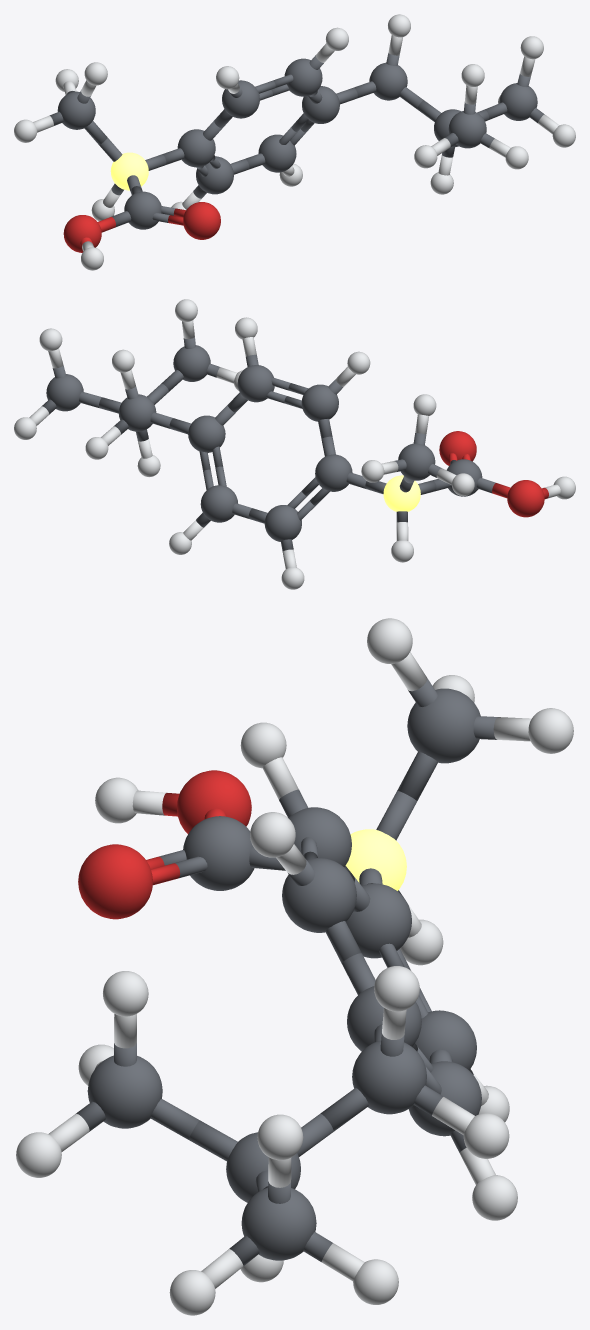
The model's file is s_ibuprofen.glb.
The picture shows the model from 3 angles, top to bottom: view 1: azimuth 30°, elevation 25°; view 2: azimuth 150°, elevation 25°; view 3: azimuth 270°, elevation 25°; orthographic projection. The views are drawn at different scales.
Visible parts, largest first — view 1: s_ibuprofen; view 2: s_ibuprofen; view 3: s_ibuprofen.
Part boxes in pixels (x1,y1,x2,y2): s_ibuprofen: (14,14,575,270); s_ibuprofen: (14,299,575,589); s_ibuprofen: (16,618,573,1315).
Bounding box in the file's own units: 11.13 × 4.37 × 5.35.
